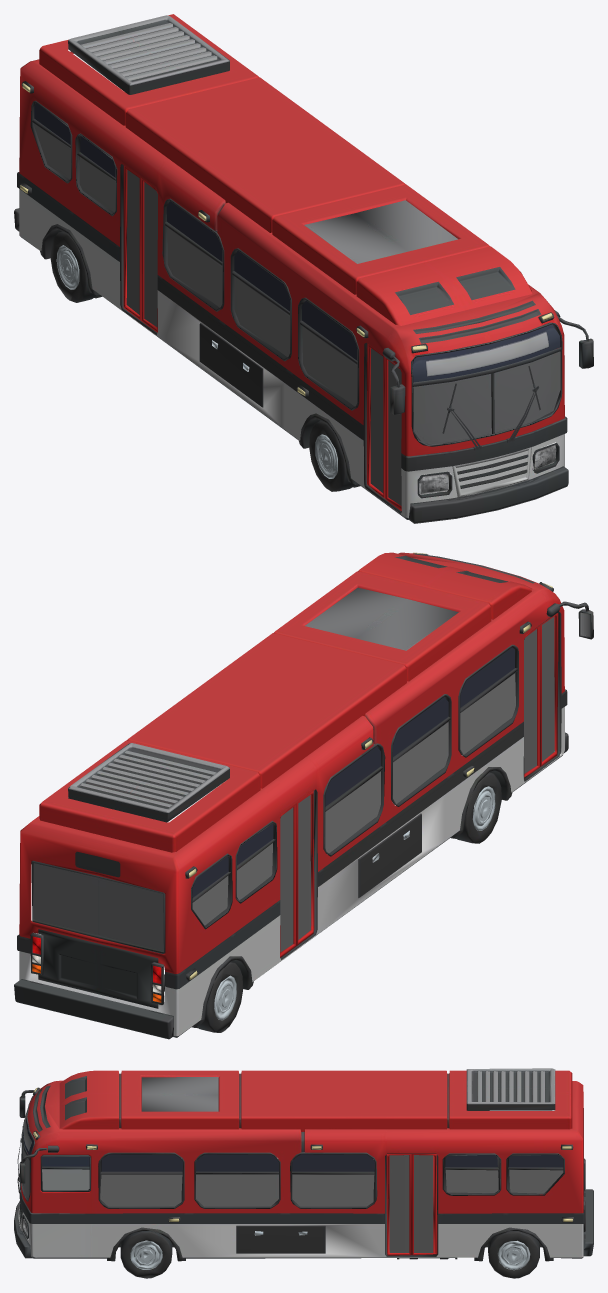
Rendered from bus.glb.
3 renders of one model, top to bottom at view 1: azimuth 30°, elevation 25°; view 2: azimuth 150°, elevation 25°; view 3: azimuth 270°, elevation 25°, orthographic. The views are drawn at different scales.
Parts seen in each view (by area): view 1: bus.1; view 2: bus.1; view 3: bus.1.
Boxes of the visible parts, x1=… form: bus.1: x1=14, y1=14, x2=593, y2=523; bus.1: x1=14, y1=552, x2=593, y2=1039; bus.1: x1=14, y1=1068, x2=593, y2=1278.
Size of the model in its own units: 0.2847 by 0.3163 by 1.
Materials: 1 (1 with a texture image).
